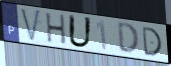1: (96, 19, 108, 51)
D: (116, 22, 141, 56), (141, 25, 164, 57)
H: (45, 13, 68, 47)
U: (67, 14, 94, 50)
V: (19, 7, 42, 44)
